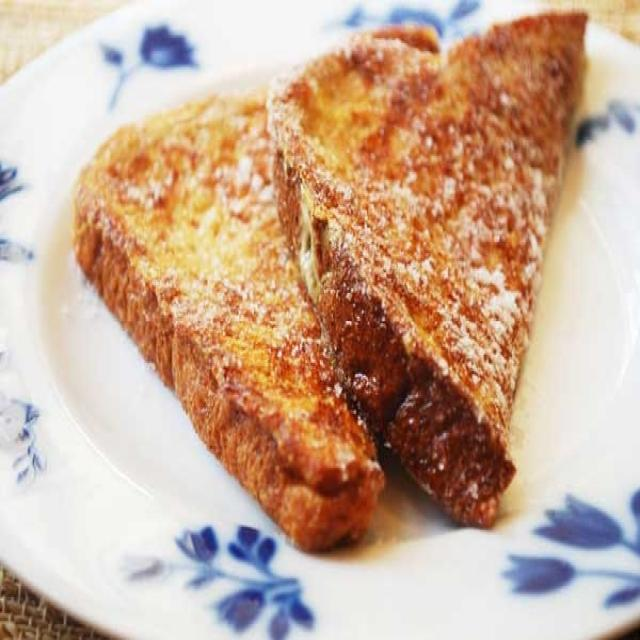面包点心: (14, 10, 622, 605)
